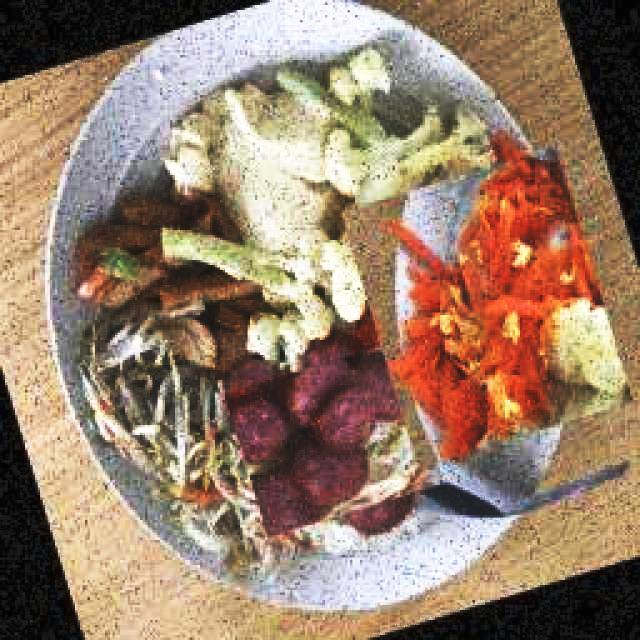carrot_eggs: (386, 131, 606, 460)
chinese_sausage: (224, 333, 421, 537)
mung_bean_sprouts: (91, 340, 220, 507)
